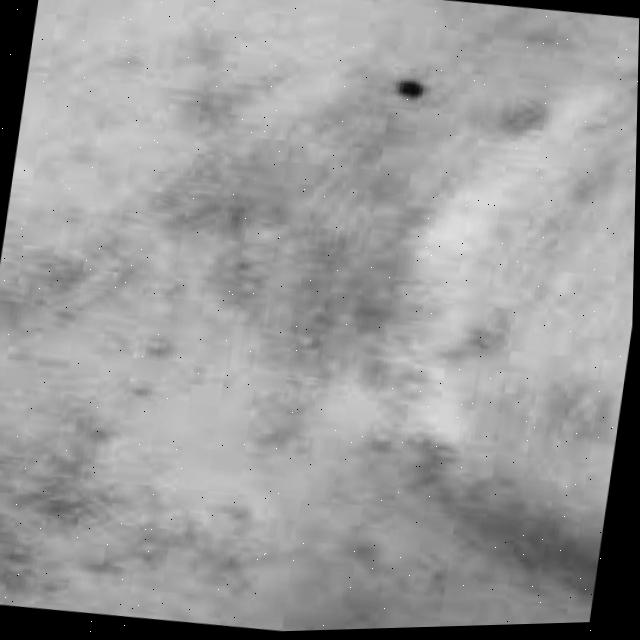Eczema: (0, 39, 639, 640)
